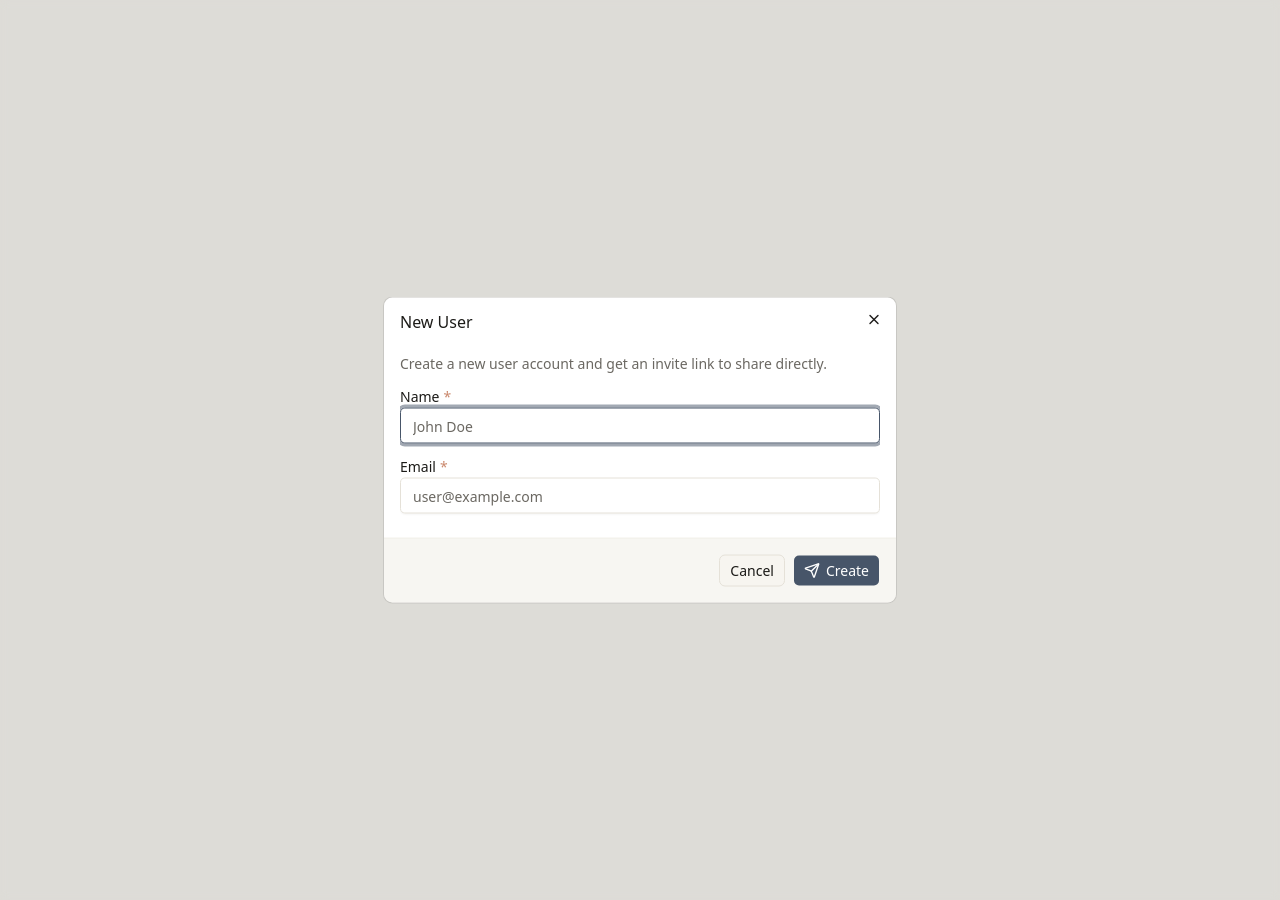
InviteDialog › shows the user as created when the invite went by email and no link came back
Type "New Analyst" into the field with placeholder "John Doe" at (640, 426), box [400, 408, 880, 444]
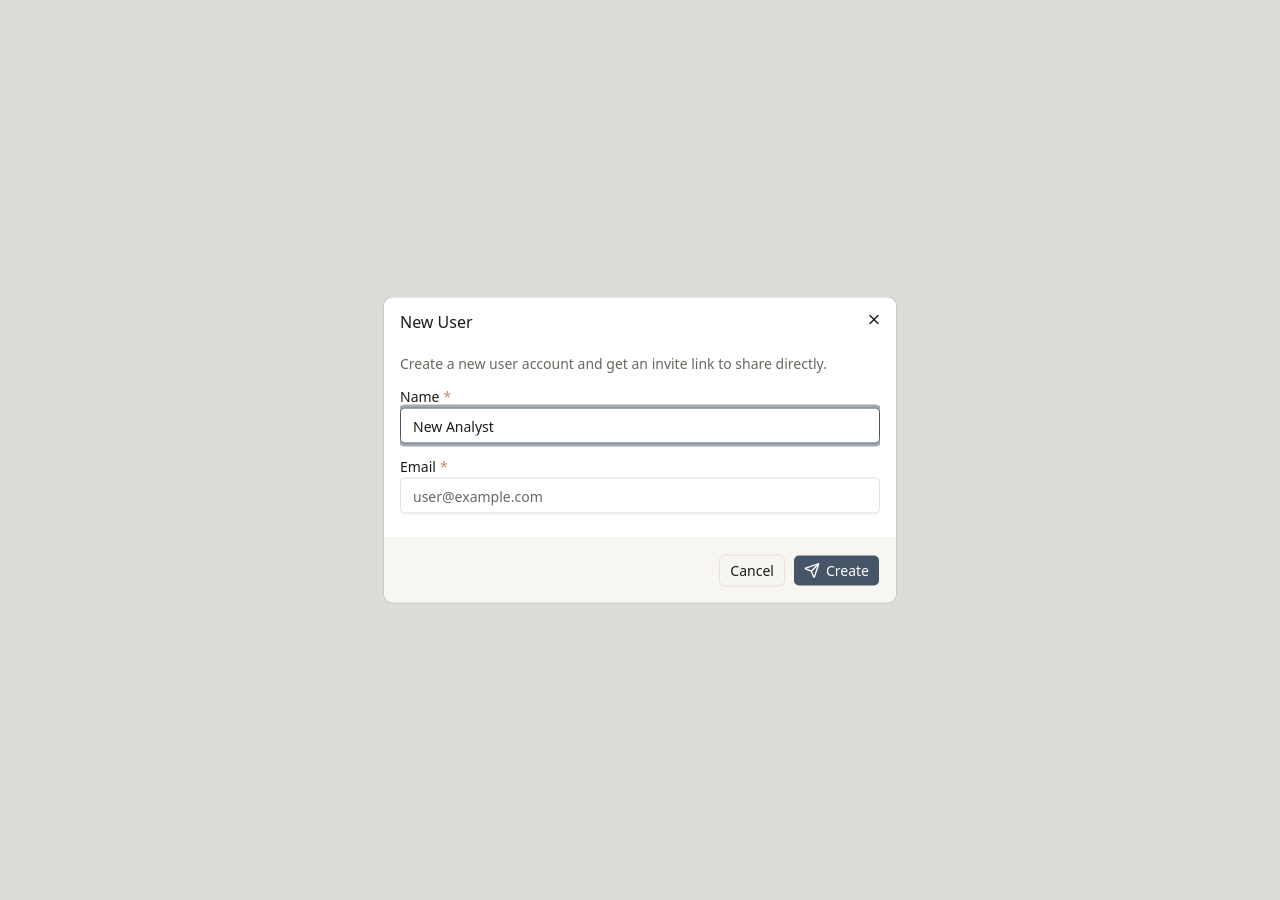
Type "new@example.com" into the field with placeholder "user@example.com" at (640, 496), box [400, 478, 880, 514]
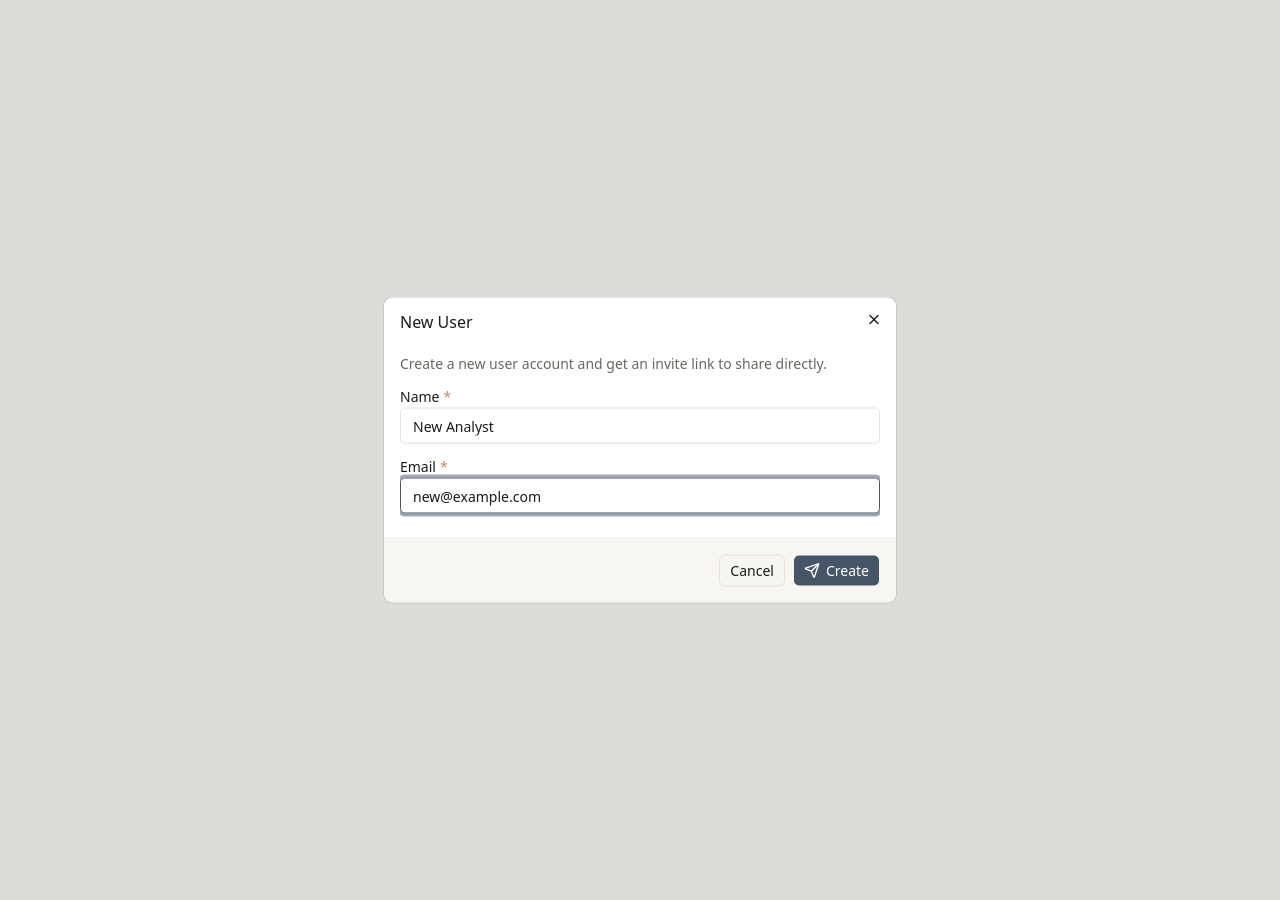
Click the button "Create" at (836, 570), box [793, 554, 880, 586]
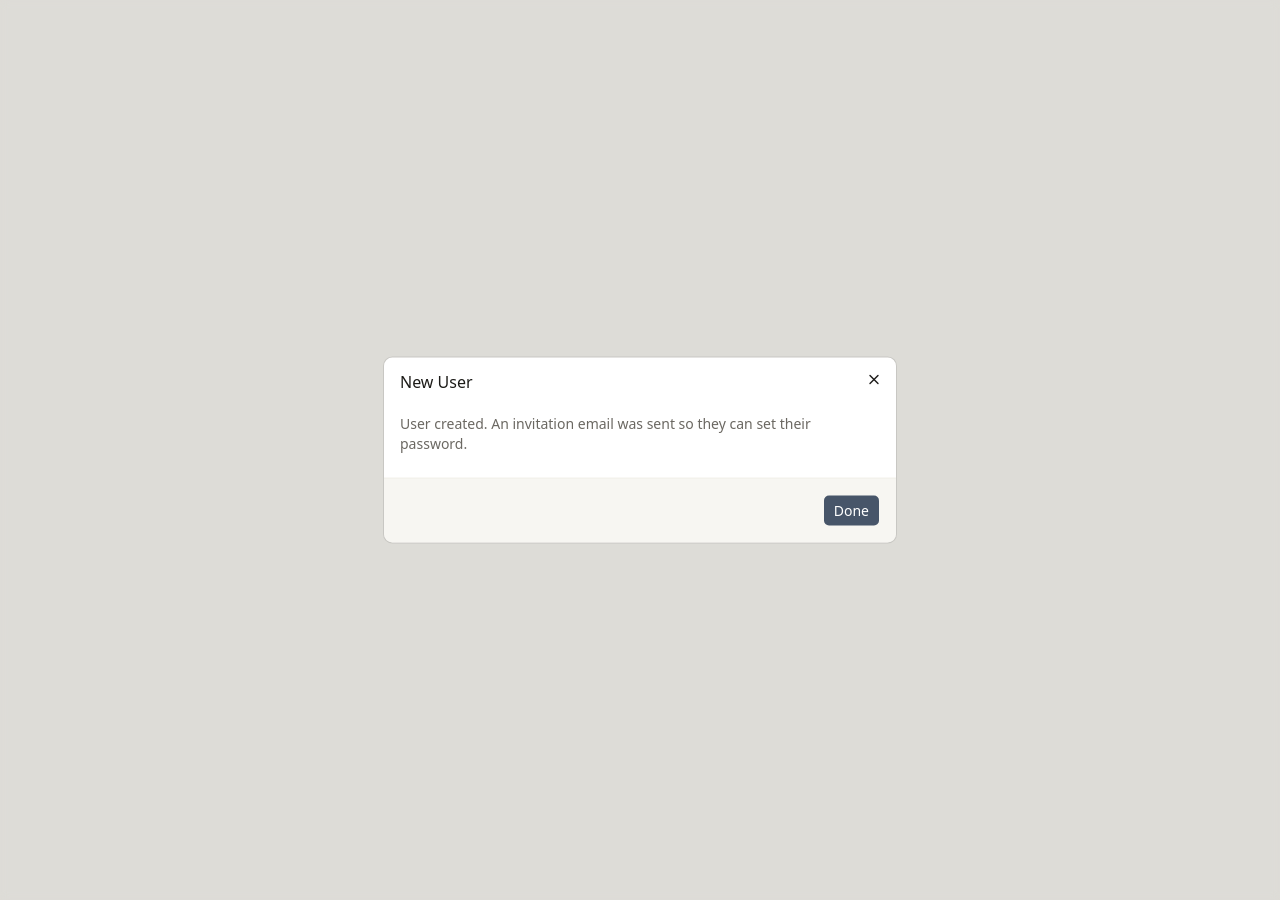
Expected: the text "invitation email was sent" is shown, [400, 414, 811, 452]
Expected: the button "Done" is shown, [823, 494, 880, 526]
